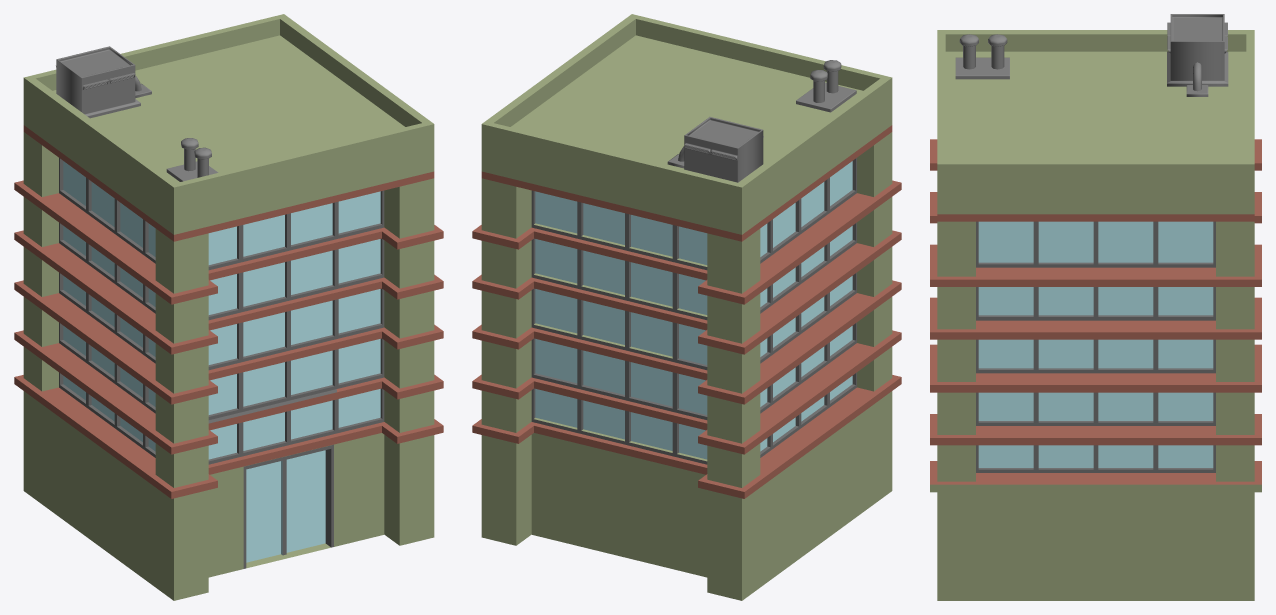
Rendered from gedung 1.fbx.
The picture shows the model from 3 angles, left to right: view 1: azimuth 30°, elevation 25°; view 2: azimuth 150°, elevation 25°; view 3: azimuth 270°, elevation 25°; orthographic projection. The views are drawn at different scales.
Parts seen in each view (by area): view 1: Cube, Cube.002, Cube.001; view 2: Cube, Cube.002, Cube.001; view 3: Cube, Cube.002, Cube.001.
Boxes of the visible parts, left/top/right/bottom form: Cube: left=14, top=14, right=443, bottom=600; Cube.002: left=56, top=46, right=151, bottom=118; Cube.001: left=166, top=138, right=218, bottom=181; Cube: left=472, top=14, right=901, bottom=600; Cube.002: left=667, top=117, right=763, bottom=182; Cube.001: left=796, top=60, right=856, bottom=112; Cube: left=930, top=30, right=1261, bottom=600; Cube.002: left=1167, top=14, right=1228, bottom=96; Cube.001: left=955, top=34, right=1009, bottom=79.
Size of the model in its own units: 209 by 209 by 321.
